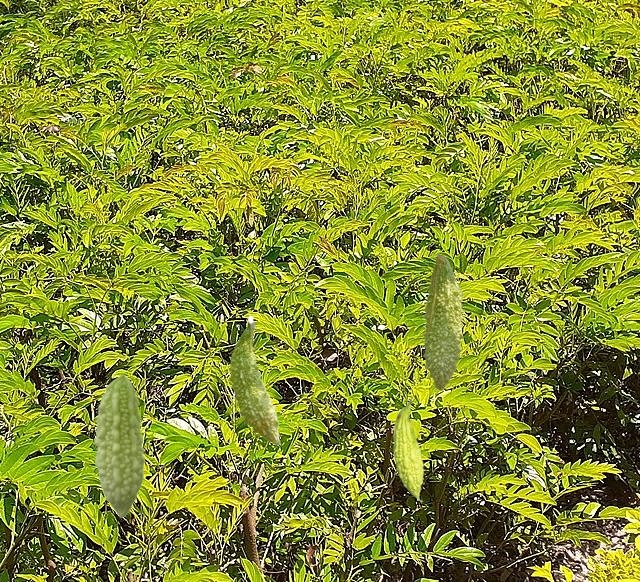ampalaya: (93, 373, 145, 518), (227, 315, 281, 445), (421, 253, 465, 391), (393, 398, 424, 503)
